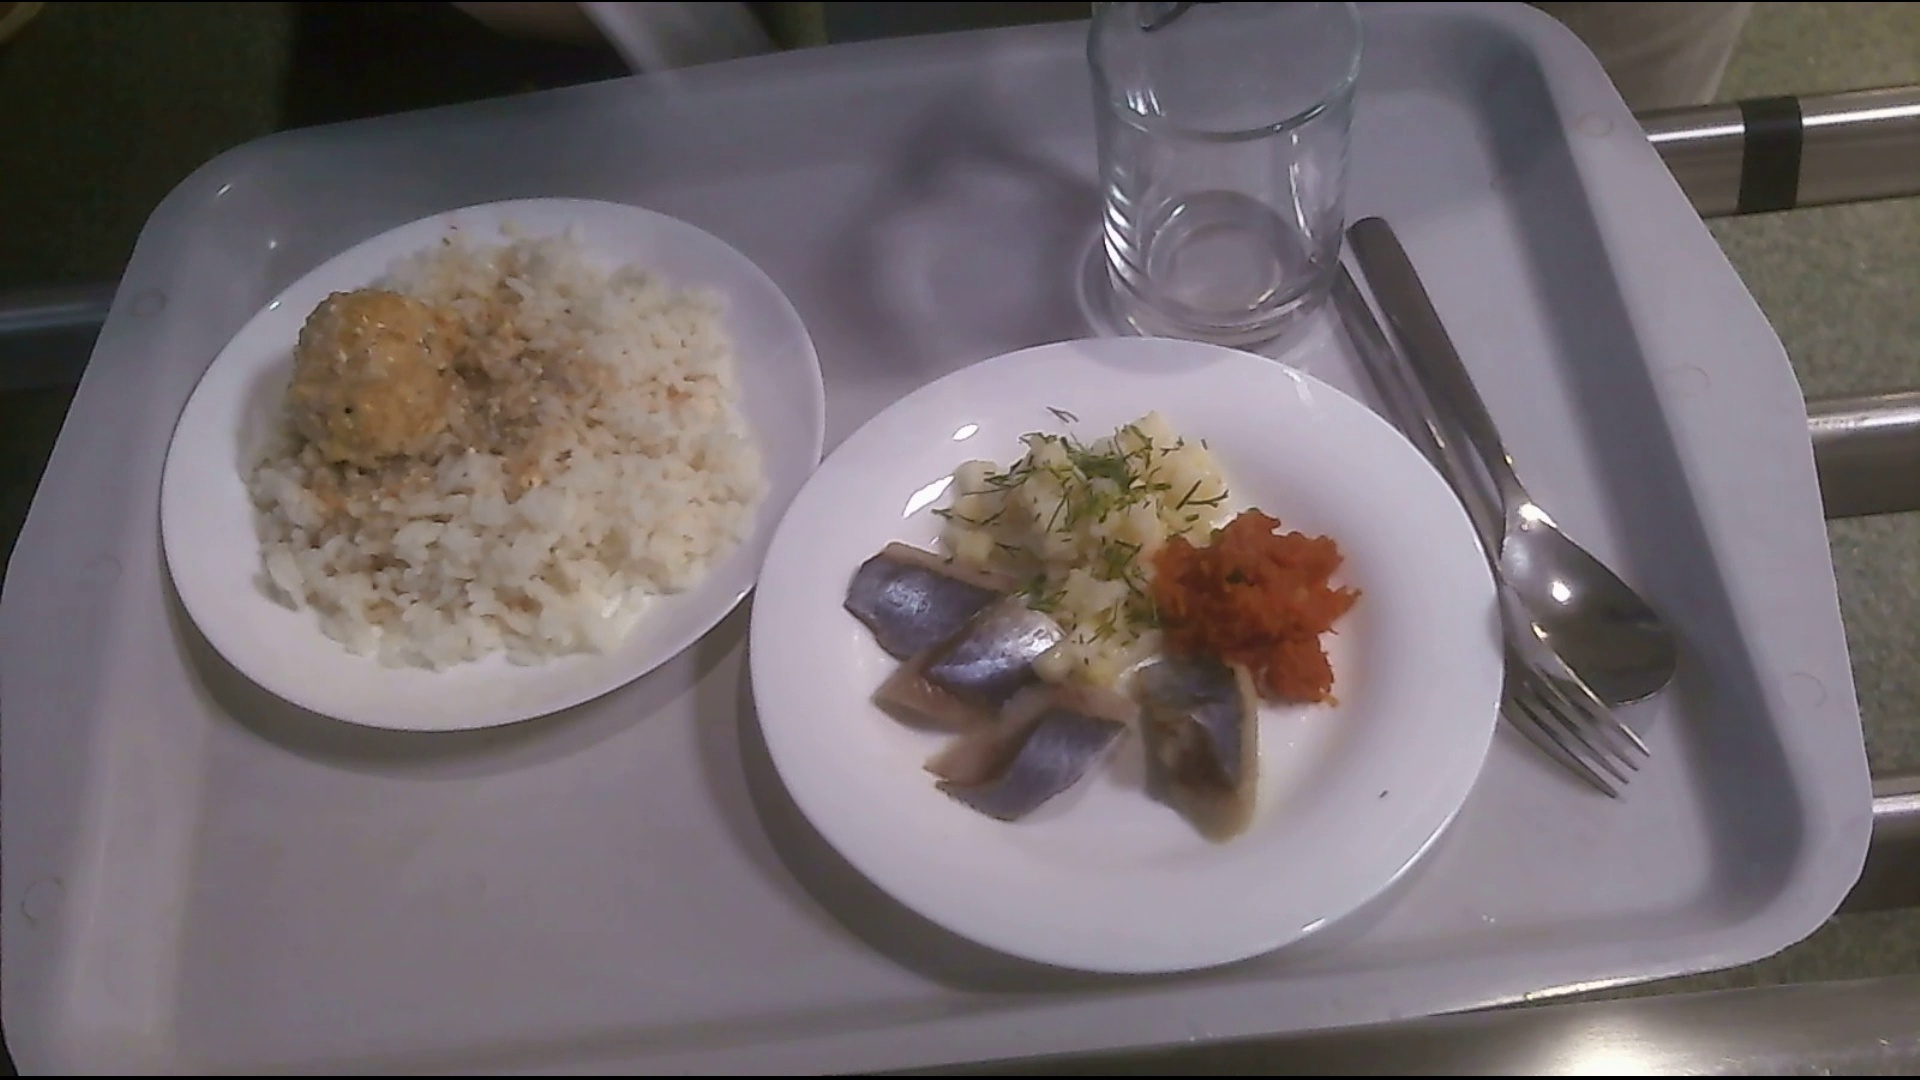cutlery: (1325, 212, 1680, 811)
drink: (1083, 11, 1362, 345)
plate: (760, 347, 1507, 967), (154, 187, 819, 745)
